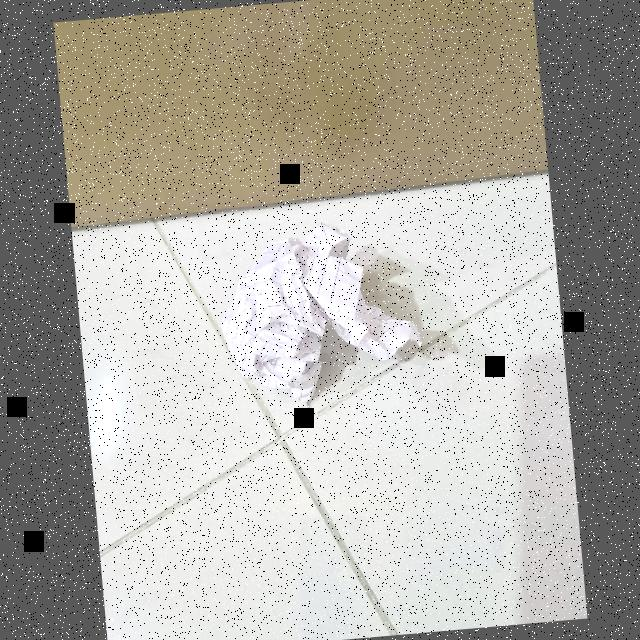scrap_paper: (213, 211, 430, 415)
